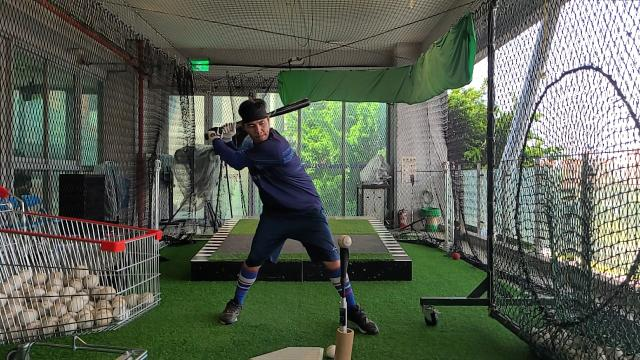ball: (338, 234, 352, 250)
bat: (237, 98, 311, 128)
